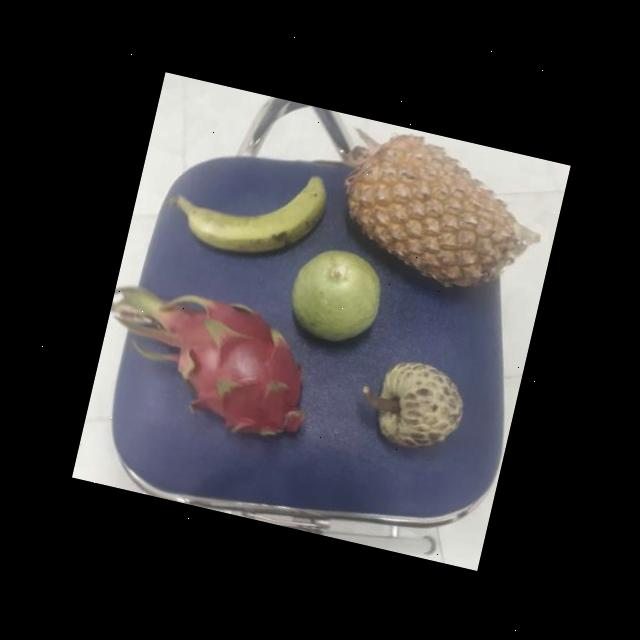Sakya fruit: (362, 353, 476, 458)
banana: (179, 146, 341, 272)
guava: (280, 240, 392, 352)
pineapple: (329, 126, 539, 301)
pitaya: (157, 289, 333, 447)
